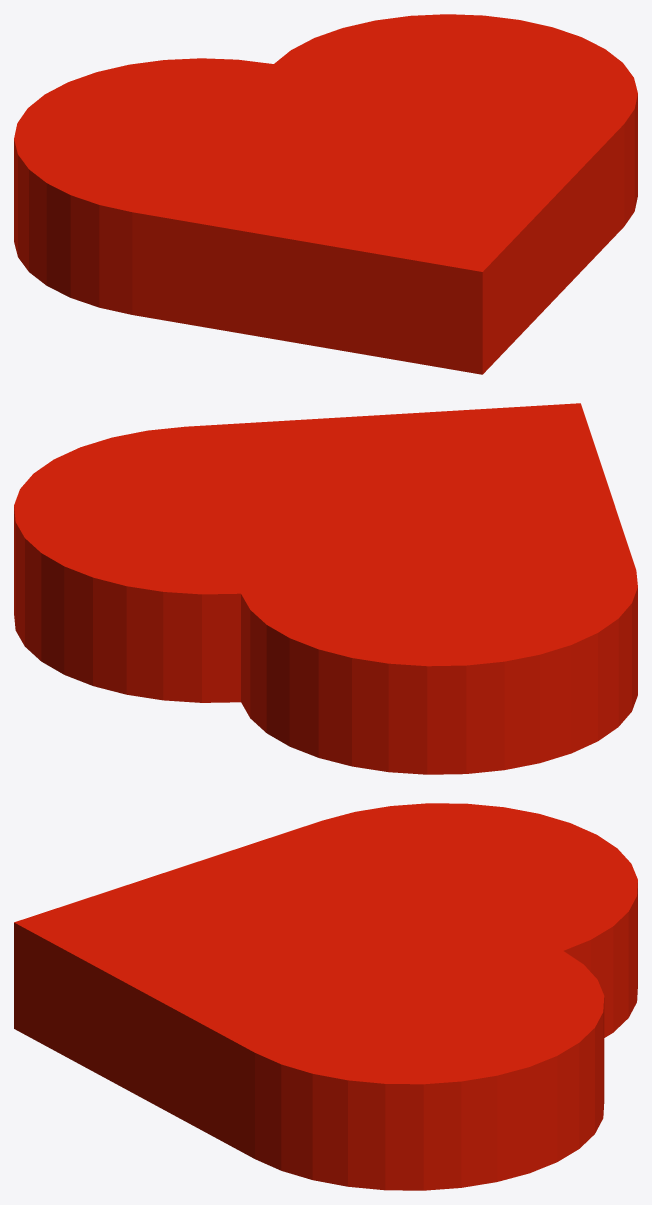
File: heart.fbx
3 views of the same model, one above another, from view 1: azimuth 30°, elevation 25°; view 2: azimuth 150°, elevation 25°; view 3: azimuth 270°, elevation 25° (orthographic). The views are drawn at different scales.
Visible parts, largest first — view 1: heart; view 2: heart; view 3: heart.
Part boxes in pixels (bbox=[...]): heart: bbox=[14, 14, 637, 374]; heart: bbox=[14, 403, 637, 774]; heart: bbox=[14, 803, 637, 1190].
Bounding box in the file's own units: 3.4 × 3.19 × 0.6.
